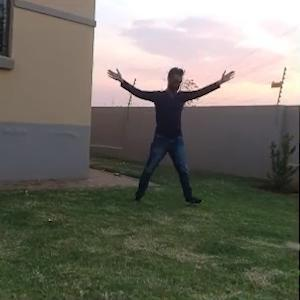takeoff: (94, 65, 227, 211)
